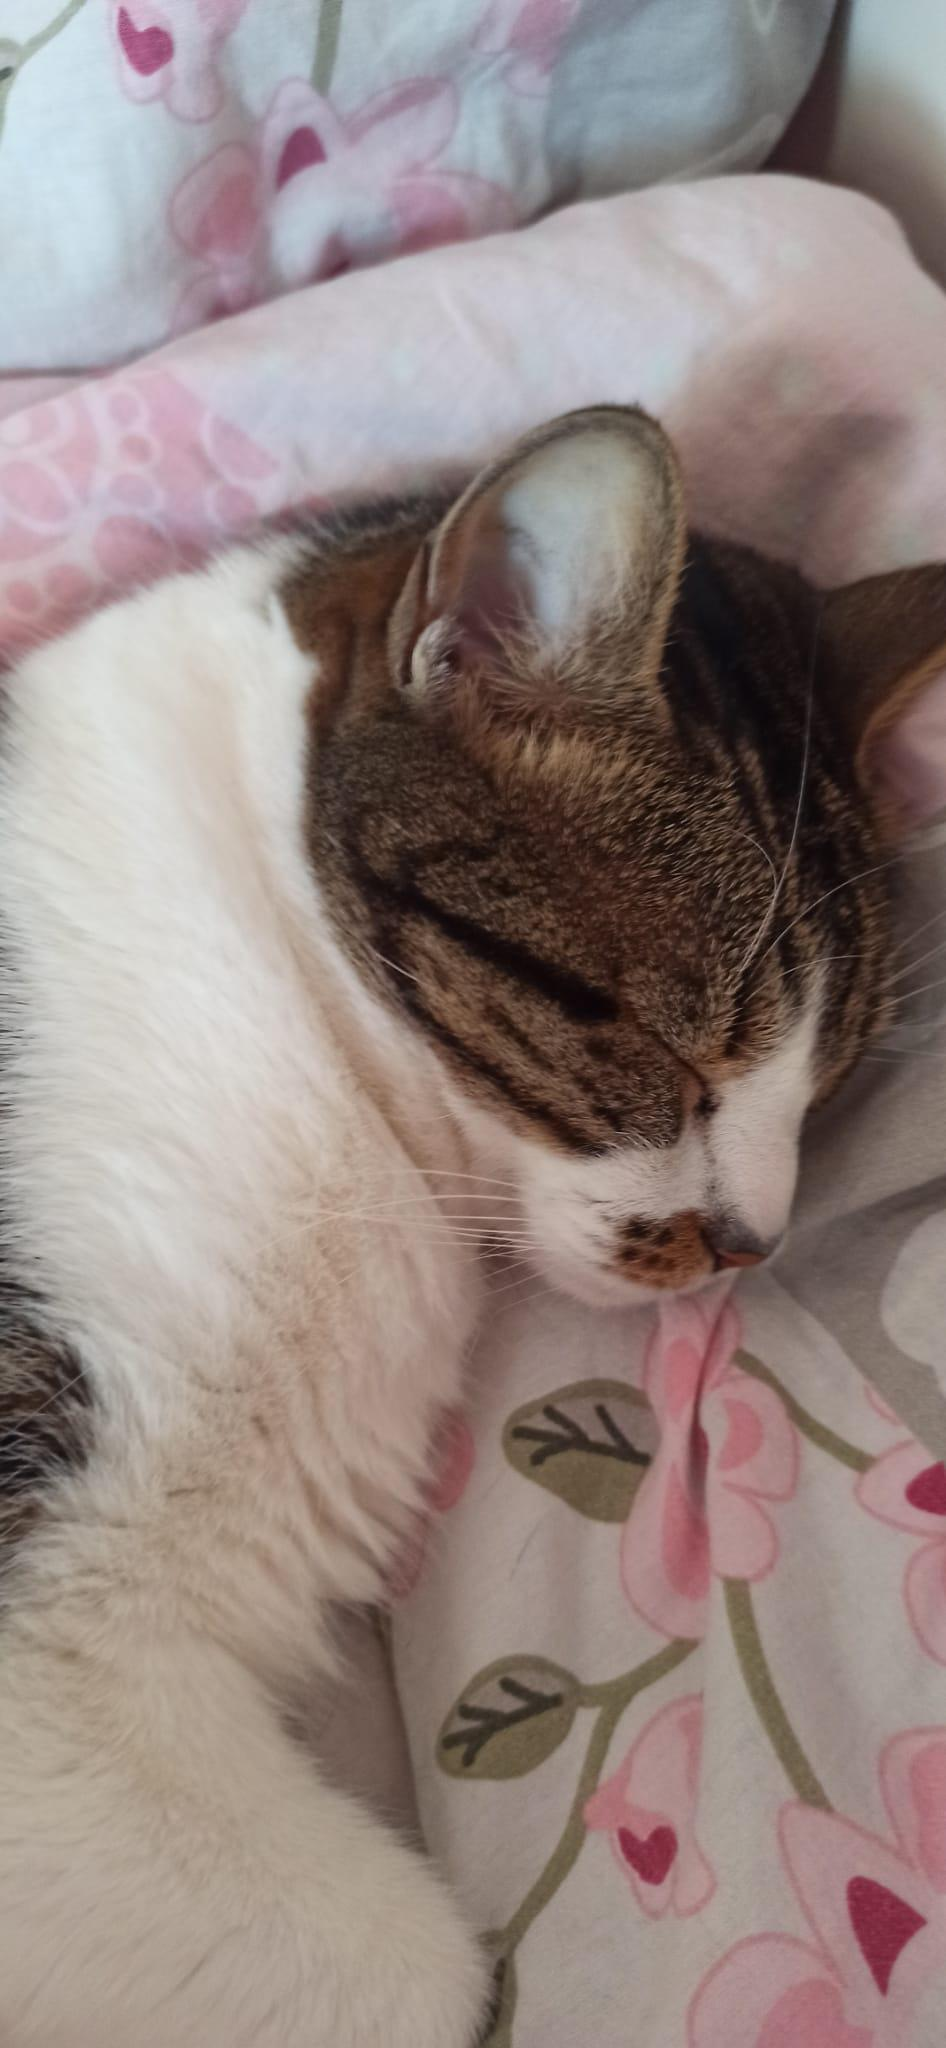kedo: (17, 408, 946, 2038)
